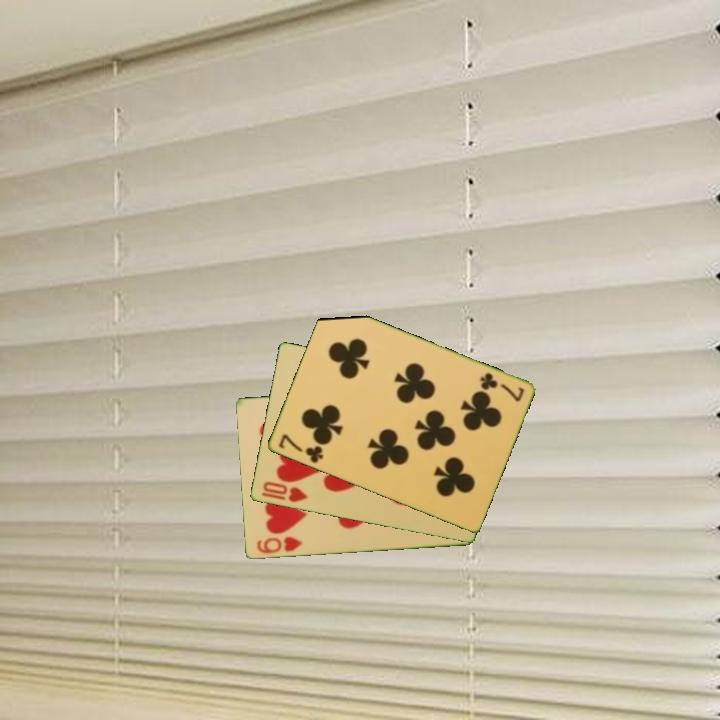10h: (259, 478, 310, 505)
6h: (253, 533, 304, 556)
7c: (476, 369, 527, 405), (275, 431, 326, 466)
